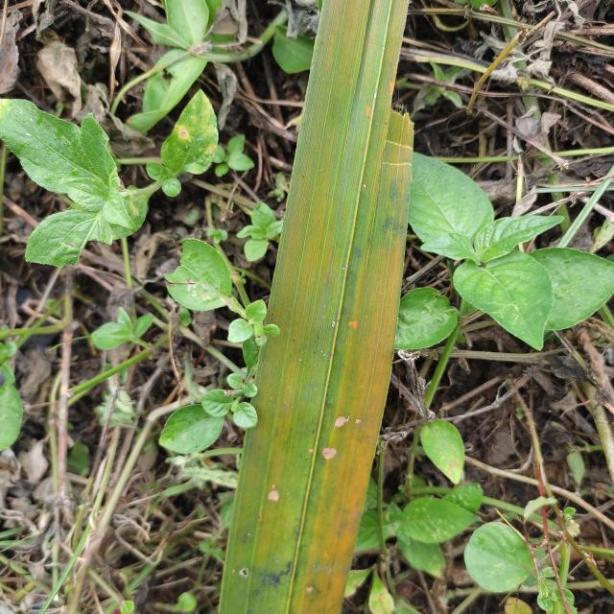Megnesium: (218, 0, 414, 614)
